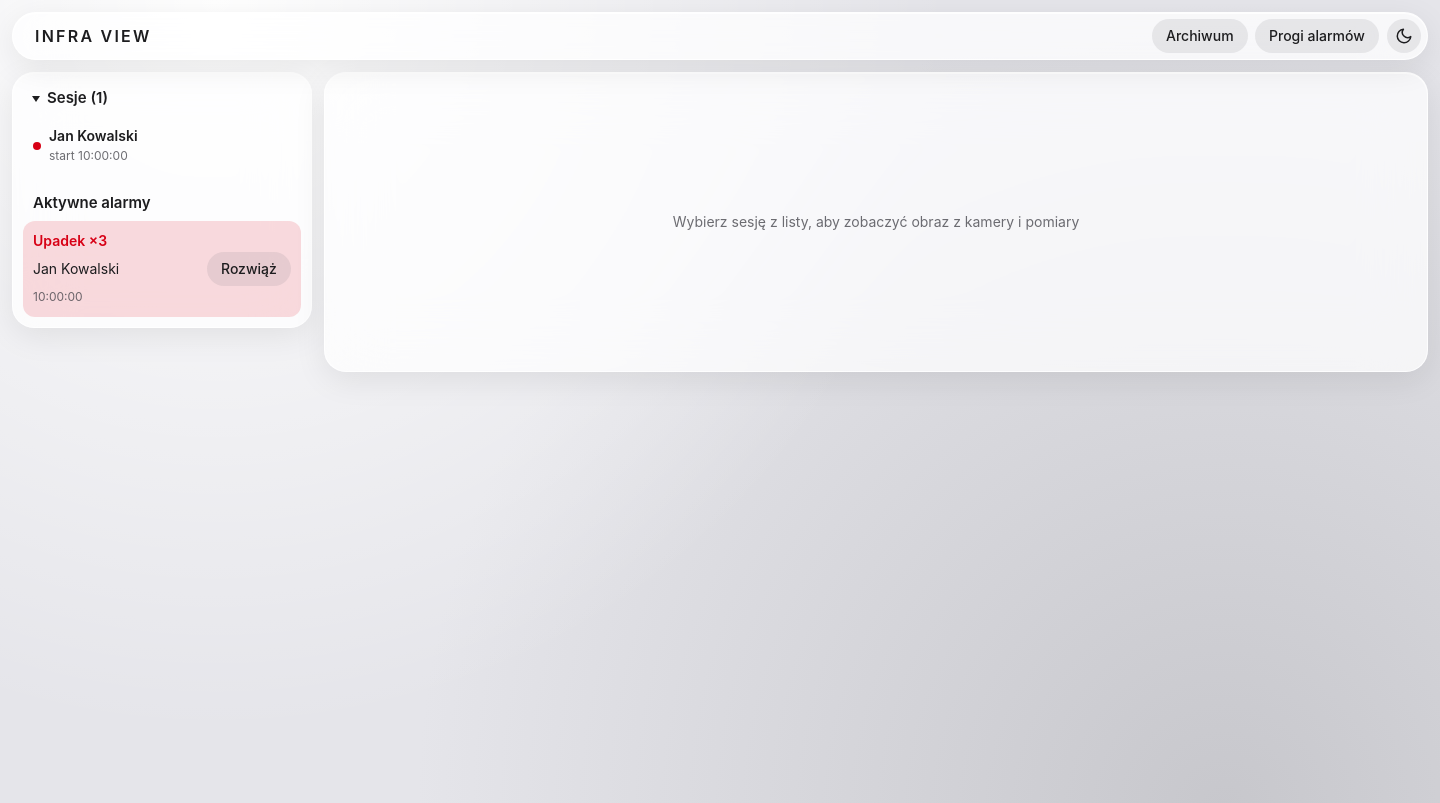
kask, który milczy, po czasie na połączenie dostaje status braku danych
Later steps or results of the test are not shown.
Step 1. Click the button "Jan Kowalski start 10:00:00" → (93, 136), box [23, 116, 301, 176]
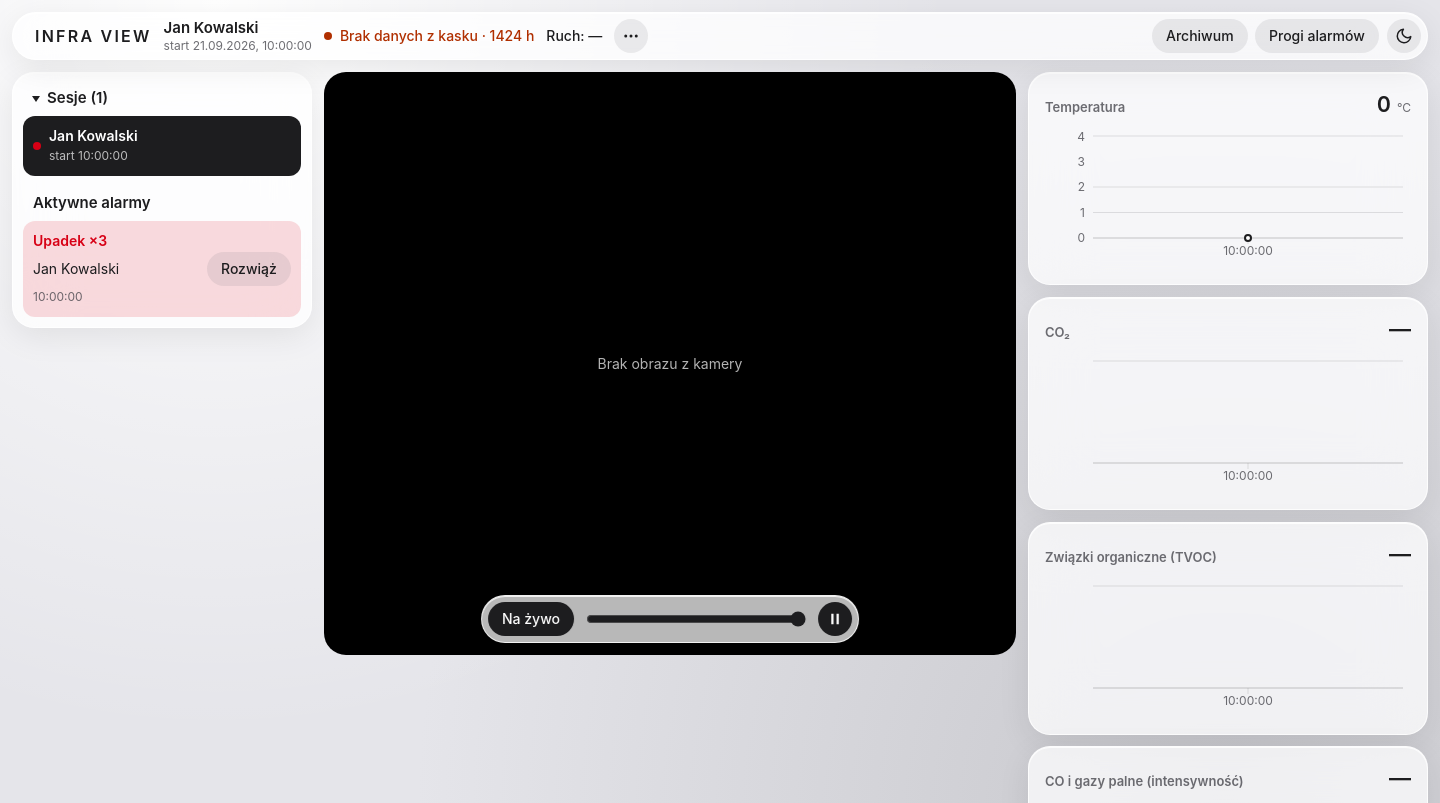
Result: the text "Brak danych z kasku · 1424 h" is shown at [324, 26, 534, 46]
Result: the text "Brak obrazu z kamery" is shown at [598, 355, 742, 372]
